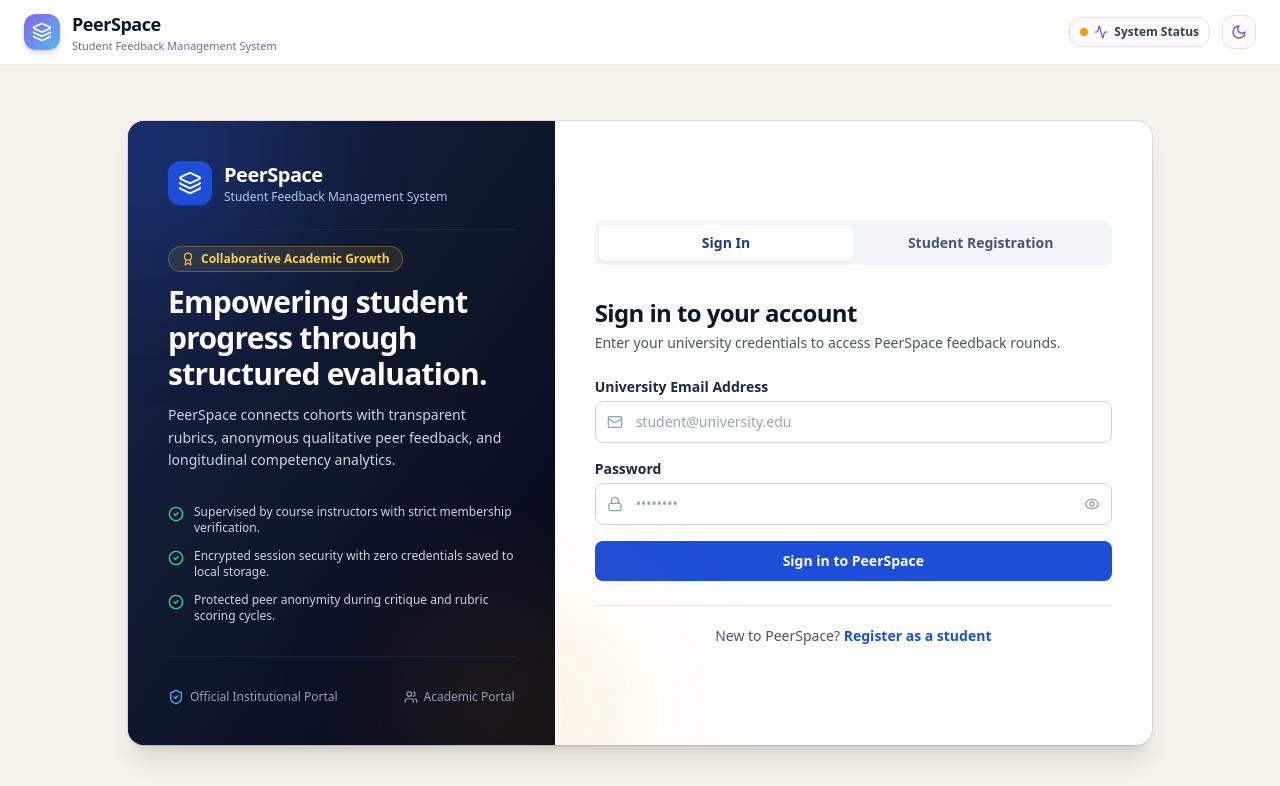
App Component › allows switching to student registration tab and back
Note: Switch to Registration
Click the tab "Student Registration".
click(981, 242)  # box [853,224,1108,260]
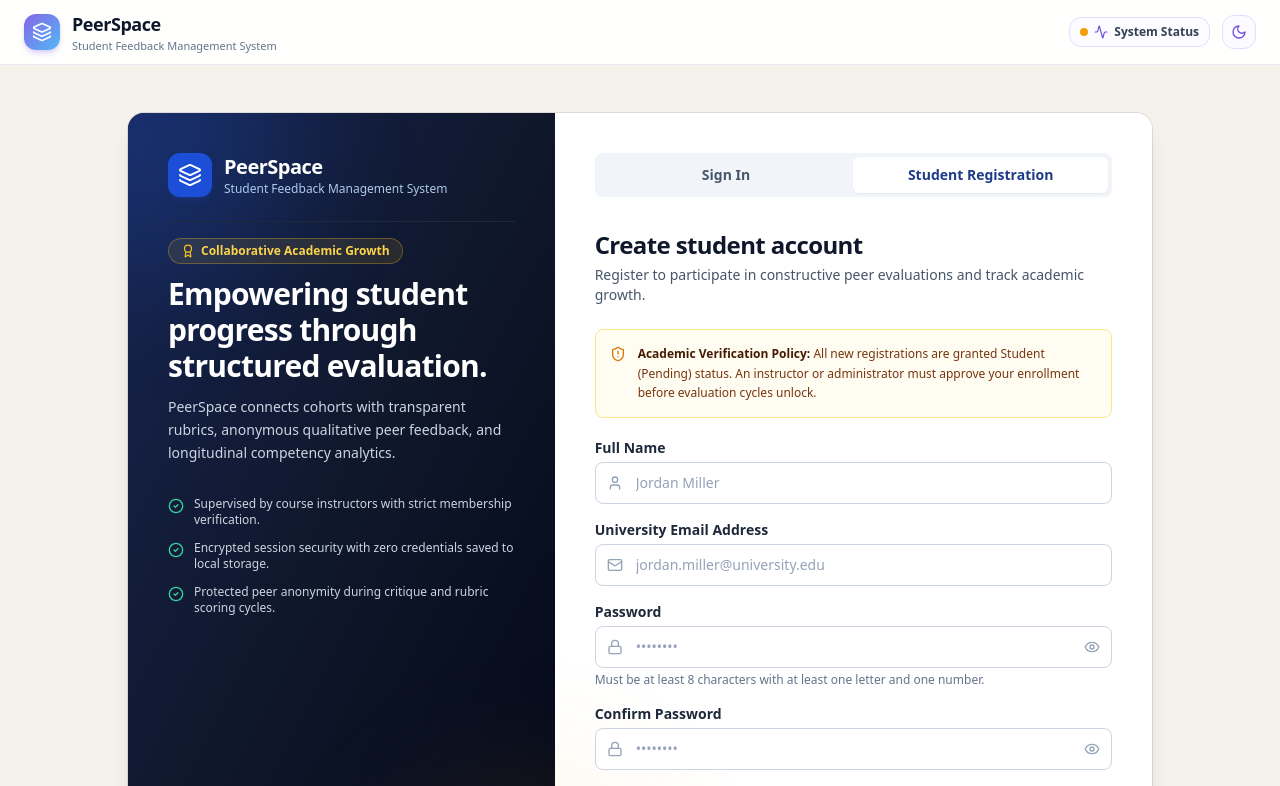
Check: the heading "Create student account" is shown, box [595,228,863,261]
Check: the field labelled "Full Name" is shown, box [595,462,1112,504]
Check: the password field labelled "Confirm Password" is shown, box [595,728,1112,770]
Note: Switch back to Login
Click the tab "Sign In".
click(726, 175)  # box [599,157,853,193]
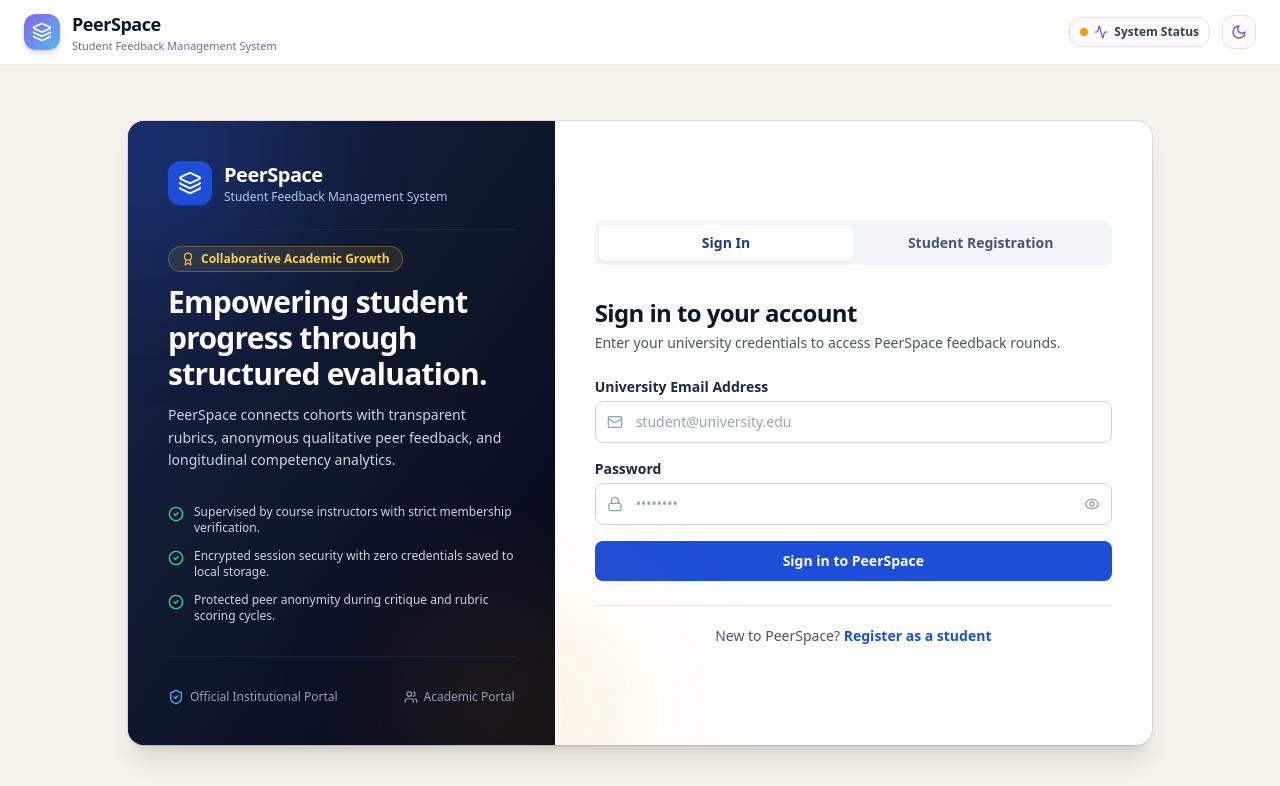
Check: the heading "Sign in to your account" is shown, box [595,296,857,328]
